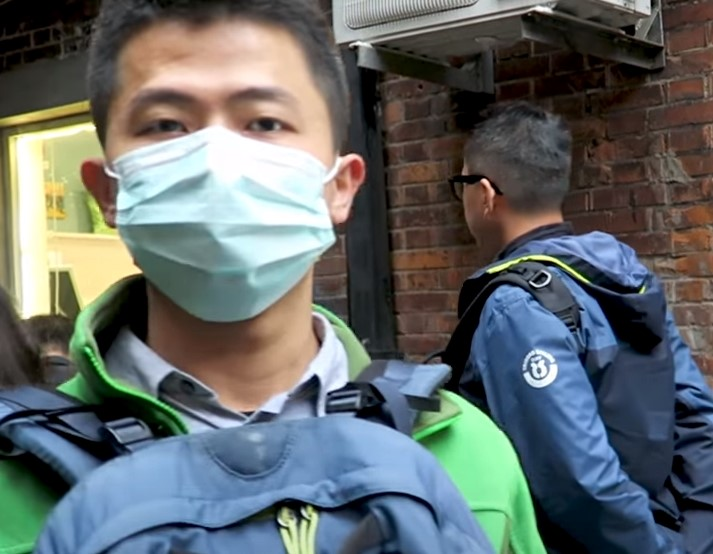face_with_mask: (80, 5, 370, 329)
